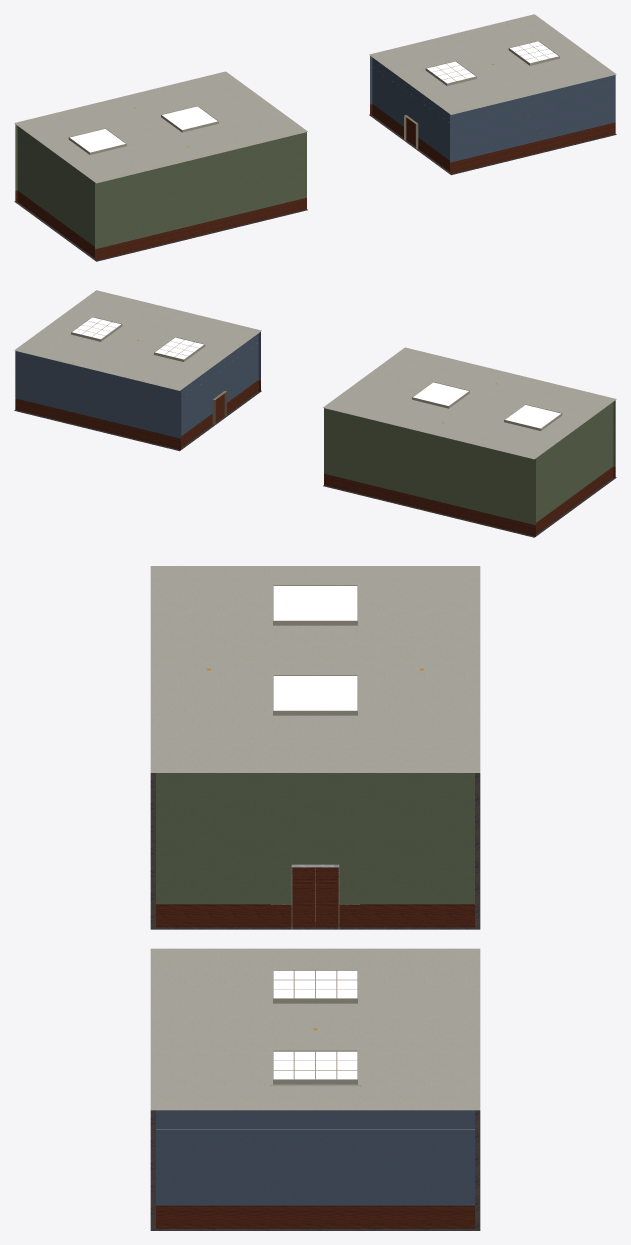
Rendered from galleries_wing.glb.
The picture shows the model from 3 angles, top to bottom: view 1: azimuth 30°, elevation 25°; view 2: azimuth 150°, elevation 25°; view 3: azimuth 270°, elevation 25°; orthographic projection. The views are drawn at different scales.
Parts seen in each view (by area): view 1: Ceiling_Paint, Wall_Paint_NatHist, Wall_Paint_History, Wainscot_Wood, Laylight_Glass, Trim_Paint, Floor_Border; view 2: Ceiling_Paint, Wall_Paint_NatHist, Wall_Paint_History, Wainscot_Wood, Laylight_Glass, Trim_Paint, Floor_Border; view 3: Ceiling_Paint, Wall_Paint_NatHist, Wall_Paint_History, Wainscot_Wood, Laylight_Glass, Floor_Border, Trim_Paint, DoorLeaf_hall_w_A, DoorLeaf_hall_w_B.
Boxes of the visible parts, box(x1,y1,x2,y2) form: Ceiling_Paint: box(14, 14, 616, 183); Wall_Paint_NatHist: box(15, 124, 306, 249); Wall_Paint_History: box(370, 56, 615, 162); Wainscot_Wood: box(15, 104, 615, 260); Laylight_Glass: box(70, 41, 558, 152); Trim_Paint: box(68, 40, 559, 154); Floor_Border: box(14, 114, 616, 261); Ceiling_Paint: box(14, 290, 616, 459); Wall_Paint_NatHist: box(324, 400, 615, 525); Wall_Paint_History: box(15, 332, 260, 438); Wainscot_Wood: box(15, 380, 615, 536); Laylight_Glass: box(72, 317, 560, 428); Trim_Paint: box(71, 316, 562, 430); Floor_Border: box(14, 390, 616, 537); Ceiling_Paint: box(150, 566, 480, 1110); Wall_Paint_NatHist: box(156, 773, 474, 904); Wall_Paint_History: box(156, 1110, 474, 1205); Wainscot_Wood: box(156, 904, 474, 1228); Laylight_Glass: box(273, 586, 357, 1079); Floor_Border: box(150, 773, 480, 1230); Trim_Paint: box(156, 585, 474, 1129); DoorLeaf_hall_w_A: box(315, 867, 338, 927); DoorLeaf_hall_w_B: box(292, 867, 315, 927).
Bounding box in the file's own units: 45.2 × 6.7 × 12.4.
36 materials, 32 textured.
